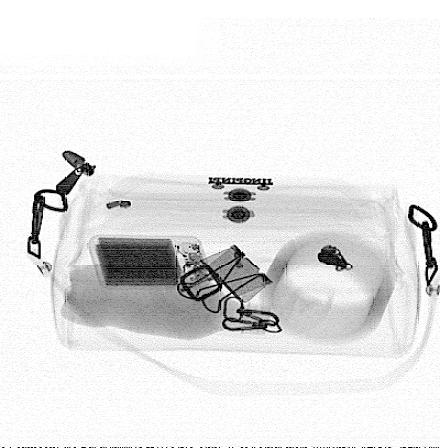Powerbank: (85, 235, 214, 291)
